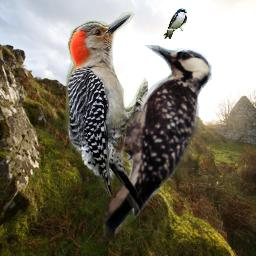Swallow: (163, 8, 187, 39)
Woodpecker: (98, 43, 224, 245), (59, 9, 148, 223)
